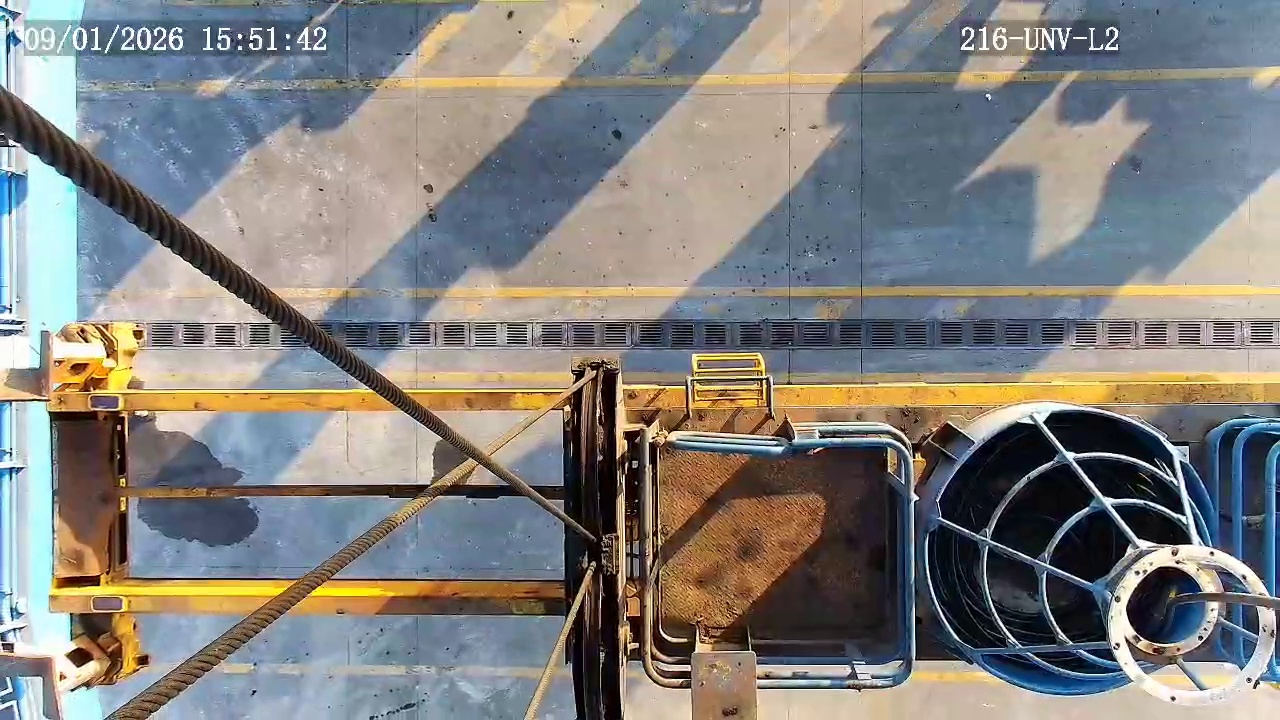left: (924, 407, 1220, 697)
